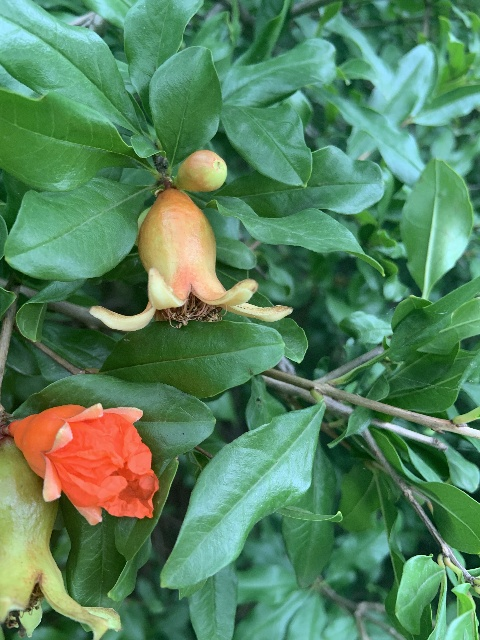bud: (176, 149, 227, 193)
early-fruit: (89, 187, 293, 331), (0, 436, 122, 640)
flower: (9, 402, 159, 525)
